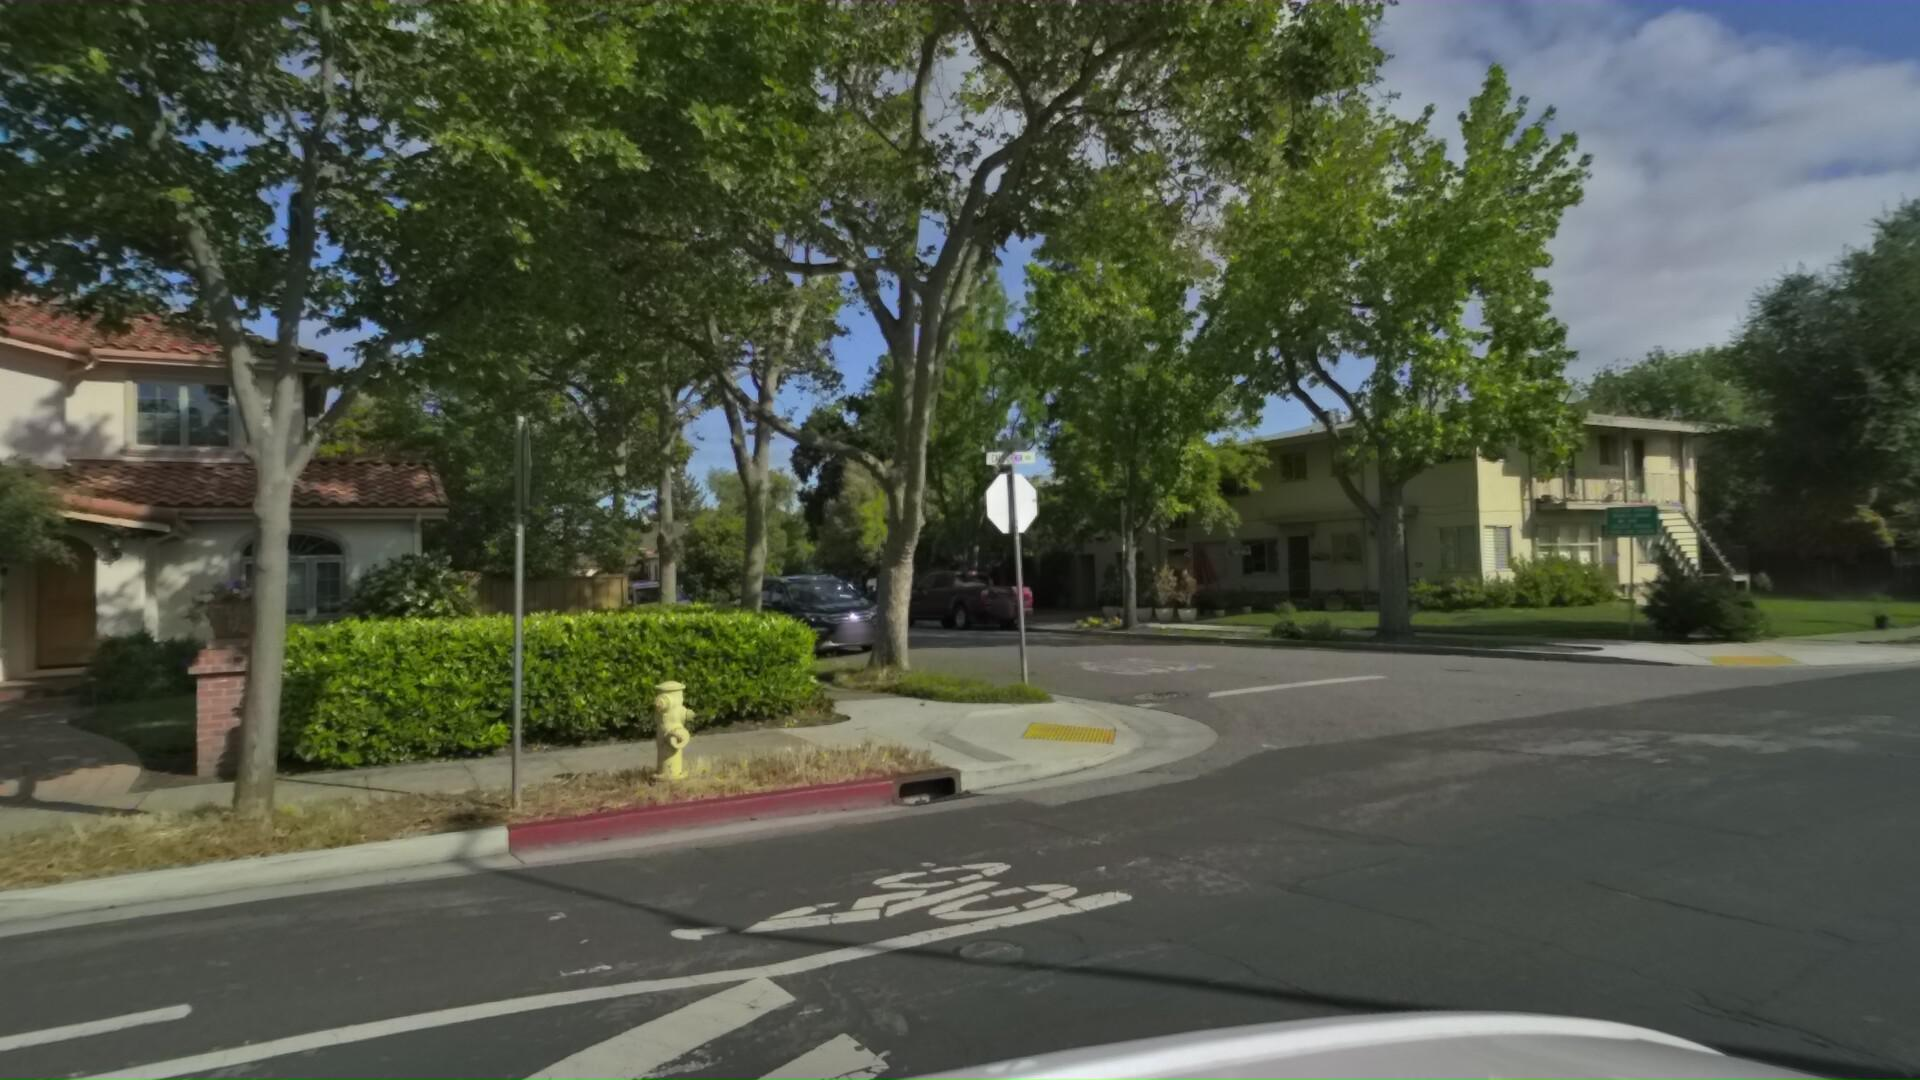car: (712, 564, 893, 663), (882, 563, 1036, 637), (599, 579, 704, 640), (771, 579, 860, 626)
